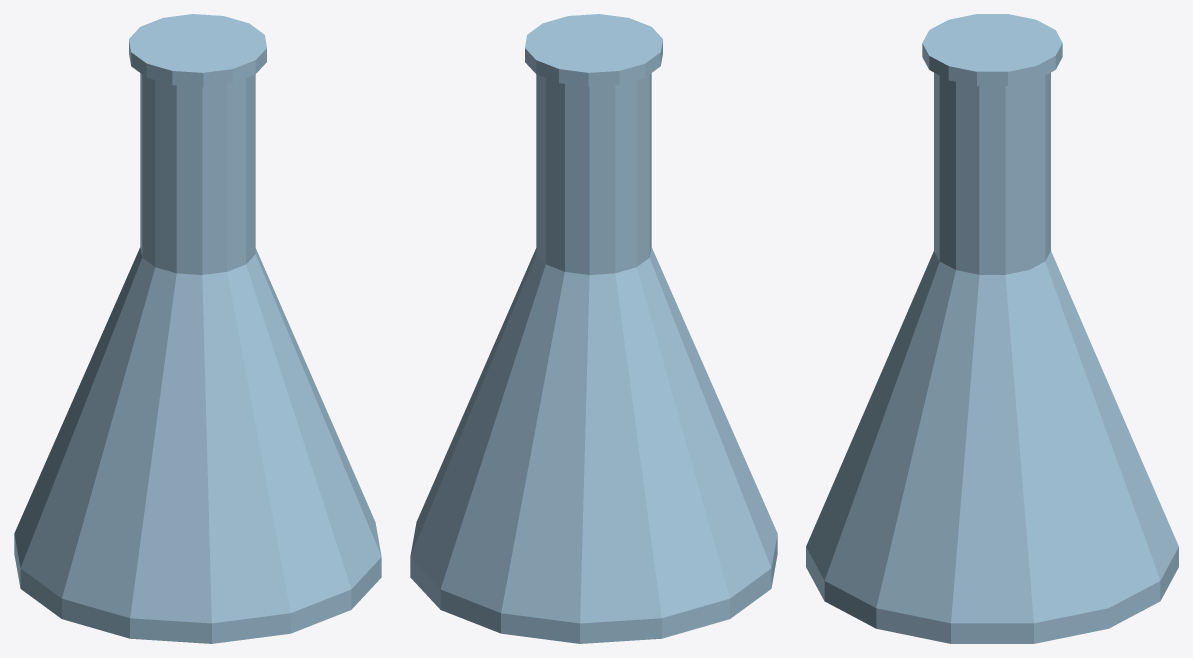
The model's file is Flask.fbx.
3 renders of one model, left to right at view 1: azimuth 30°, elevation 25°; view 2: azimuth 150°, elevation 25°; view 3: azimuth 270°, elevation 25°, orthographic.
Parts seen in each view (by area): view 1: Cylinder; view 2: Cylinder; view 3: Cylinder.
Boxes of the visible parts, x1,y1,x2,y2 form: Cylinder: [14, 14, 381, 643]; Cylinder: [410, 14, 777, 643]; Cylinder: [806, 14, 1178, 643].
Bounding box in the file's own units: 195 × 310 × 200.
